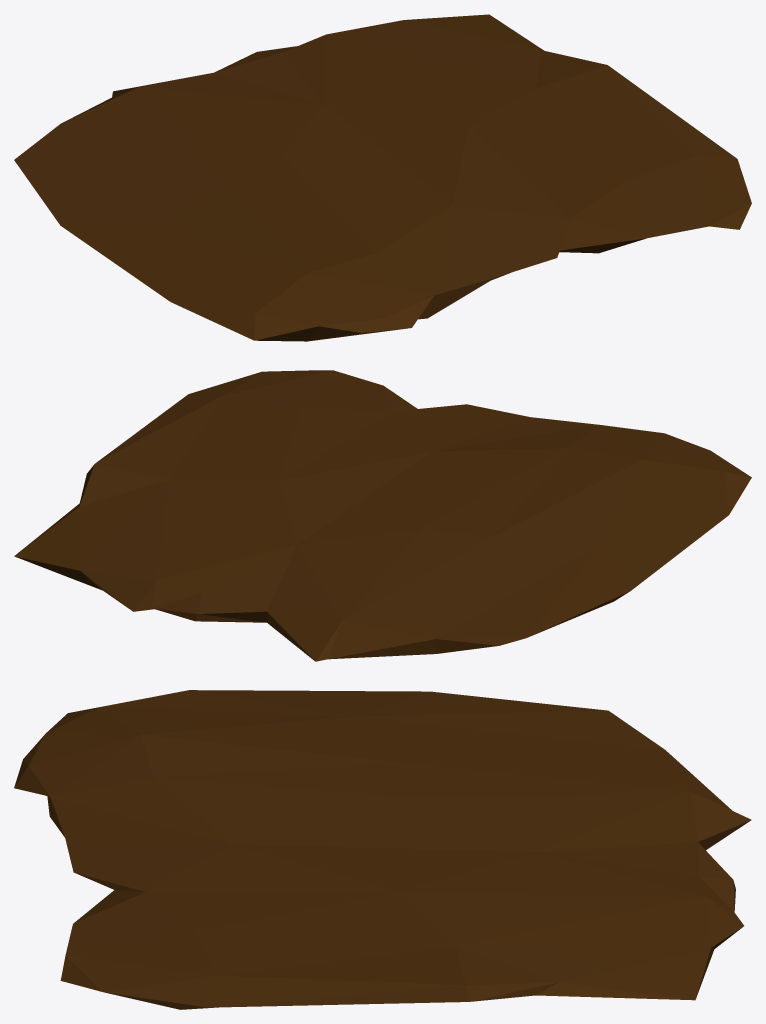
Rendered from FarmGroundRuined.fbx.
3 views of the same model, one above another, from view 1: azimuth 30°, elevation 25°; view 2: azimuth 150°, elevation 25°; view 3: azimuth 270°, elevation 25° (orthographic). The views are drawn at different scales.
Visible parts, largest first — view 1: FarmGroundRuined; view 2: FarmGroundRuined; view 3: FarmGroundRuined.
Part boxes in pixels (bbox=[...]): FarmGroundRuined: bbox=[14, 14, 751, 341]; FarmGroundRuined: bbox=[14, 370, 751, 661]; FarmGroundRuined: bbox=[14, 690, 751, 1009].
Bounding box in the file's own units: 87.5 × 5.42 × 86.73.
